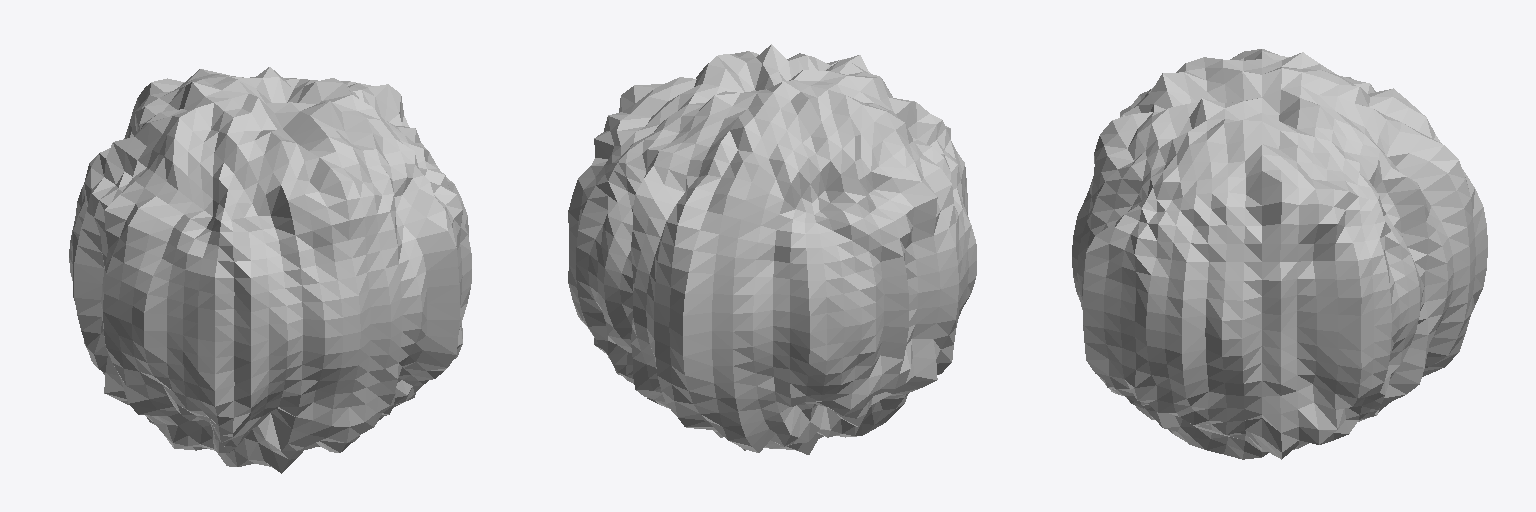
File: asteroid142.obj
The picture shows the model from 3 angles: view 1: azimuth 30°, elevation 25°; view 2: azimuth 150°, elevation 25°; view 3: azimuth 270°, elevation 25°; orthographic projection.
Parts seen in each view (by area): view 1: Cube_Cube.002; view 2: Cube_Cube.002; view 3: Cube_Cube.002.
Part boxes in pixels (x1,y1,x2,y2): Cube_Cube.002: (69,67,471,473); Cube_Cube.002: (568,44,976,454); Cube_Cube.002: (1072,49,1487,459).
Bounding box in the file's own units: 1.73 × 1.73 × 1.81.